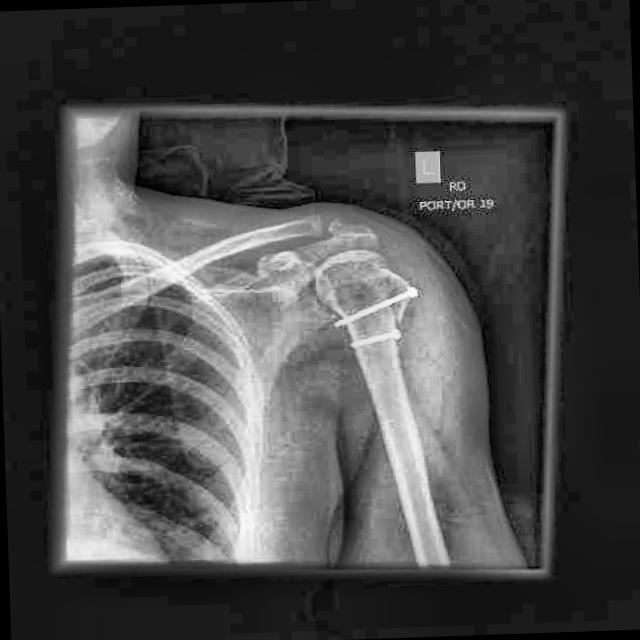shoulder fracture: (283, 206, 382, 258)
